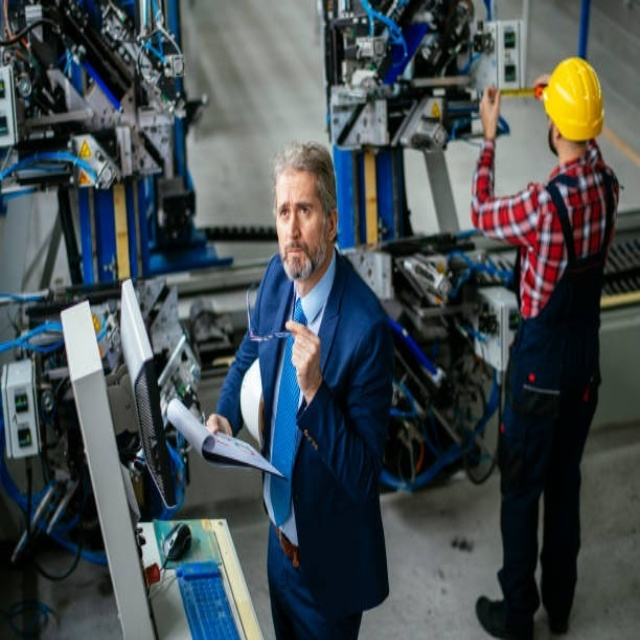Sin_gafas: (275, 195, 316, 226)
Sin_guantes: (281, 315, 321, 389), (481, 83, 501, 135)
Sin_mascara: (283, 240, 310, 275)
